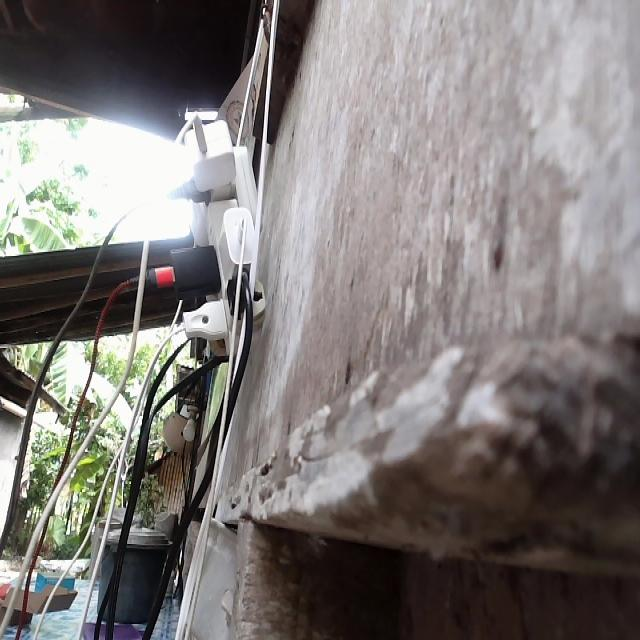-: (118, 104, 267, 373)
